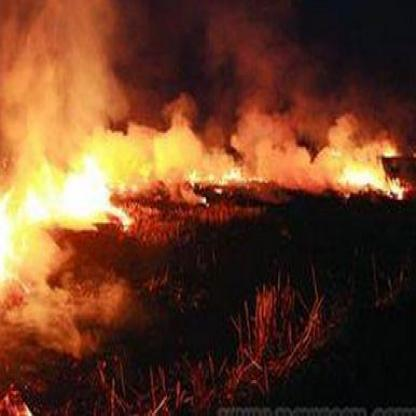fire: (2, 112, 132, 254), (327, 131, 408, 197), (180, 143, 270, 197)
